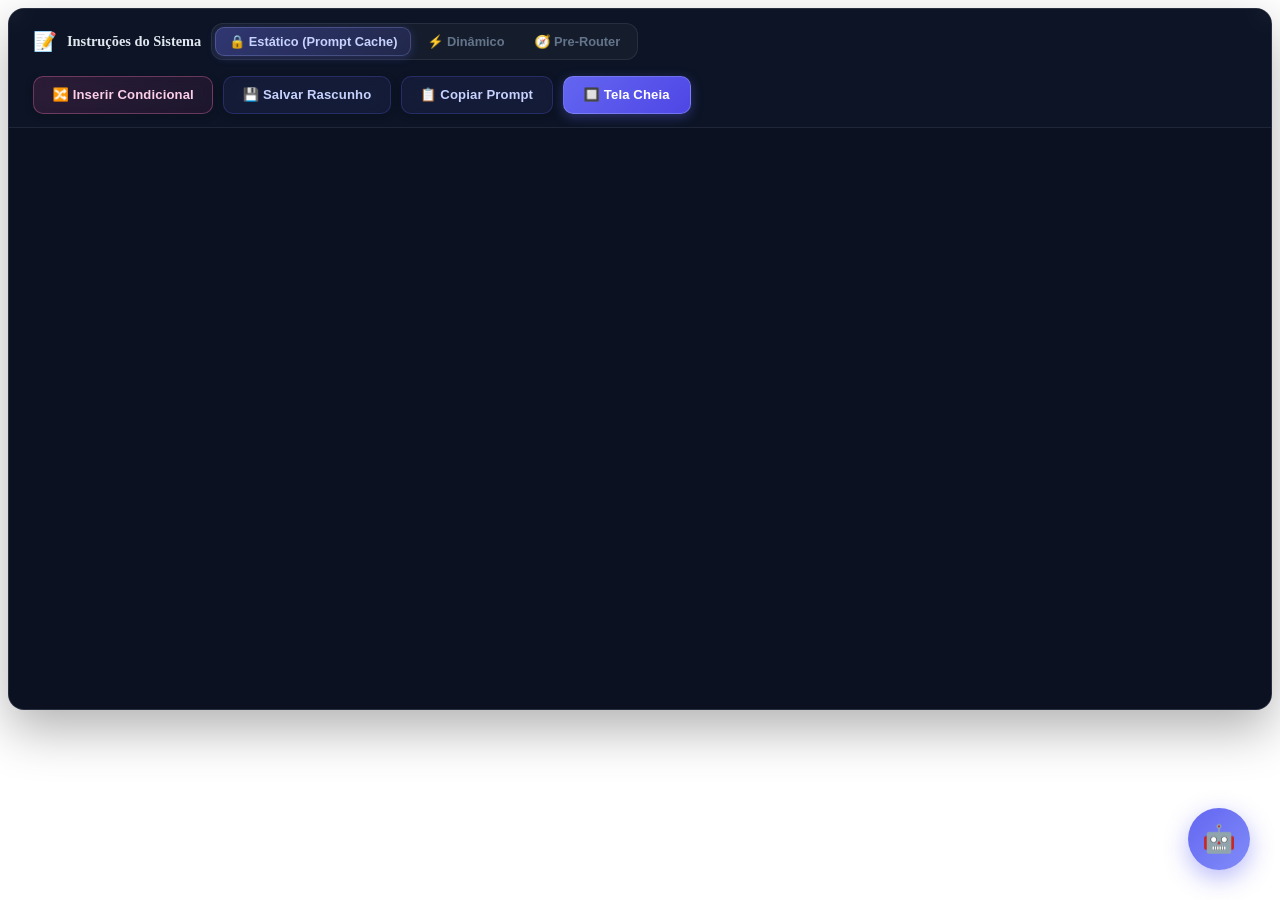
PromptAdvisor - Funcionalidade de Reset de Memória › deve fechar o assistente e manter a bolinha do chat (FAB) visível ao clicar no botão X no modo tela cheia
The image size is (1280, 900).
Note: Abre o Assistente
Click the button titled "Assistente de Prompt" at (1219, 839), box [1188,808,1250,870]
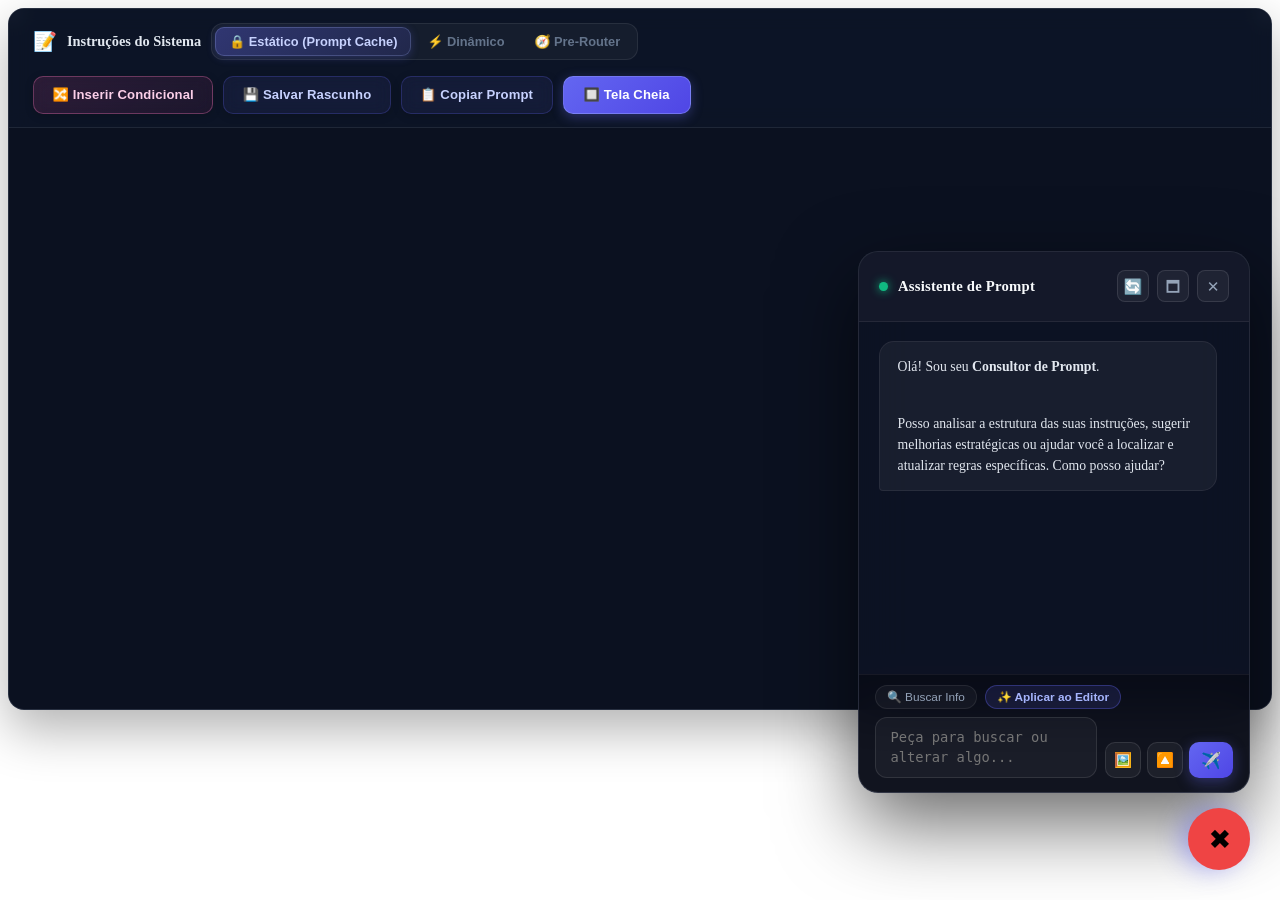
Note: Maximiza para Tela Cheia
Click the button titled "Maximizar Janela (Tela Cheia)" at (1173, 286), box [1157,270,1189,302]
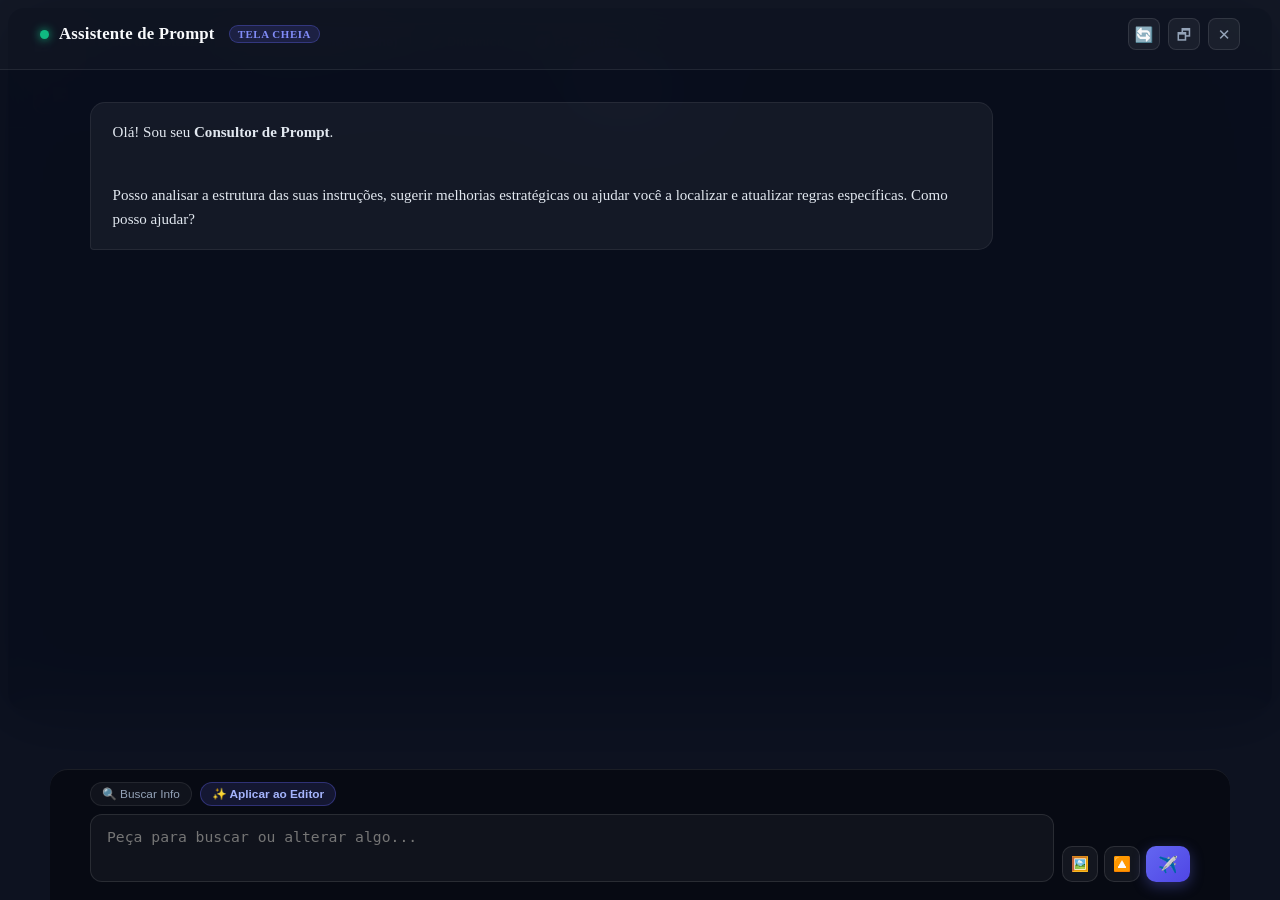
Expected: the text "Tela Cheia" is shown, [229,25,320,43]
Note: Clica no botão de Fechar (✕)
Click the button titled "Fechar Assistente" at (1224, 34), box [1208,18,1240,50]
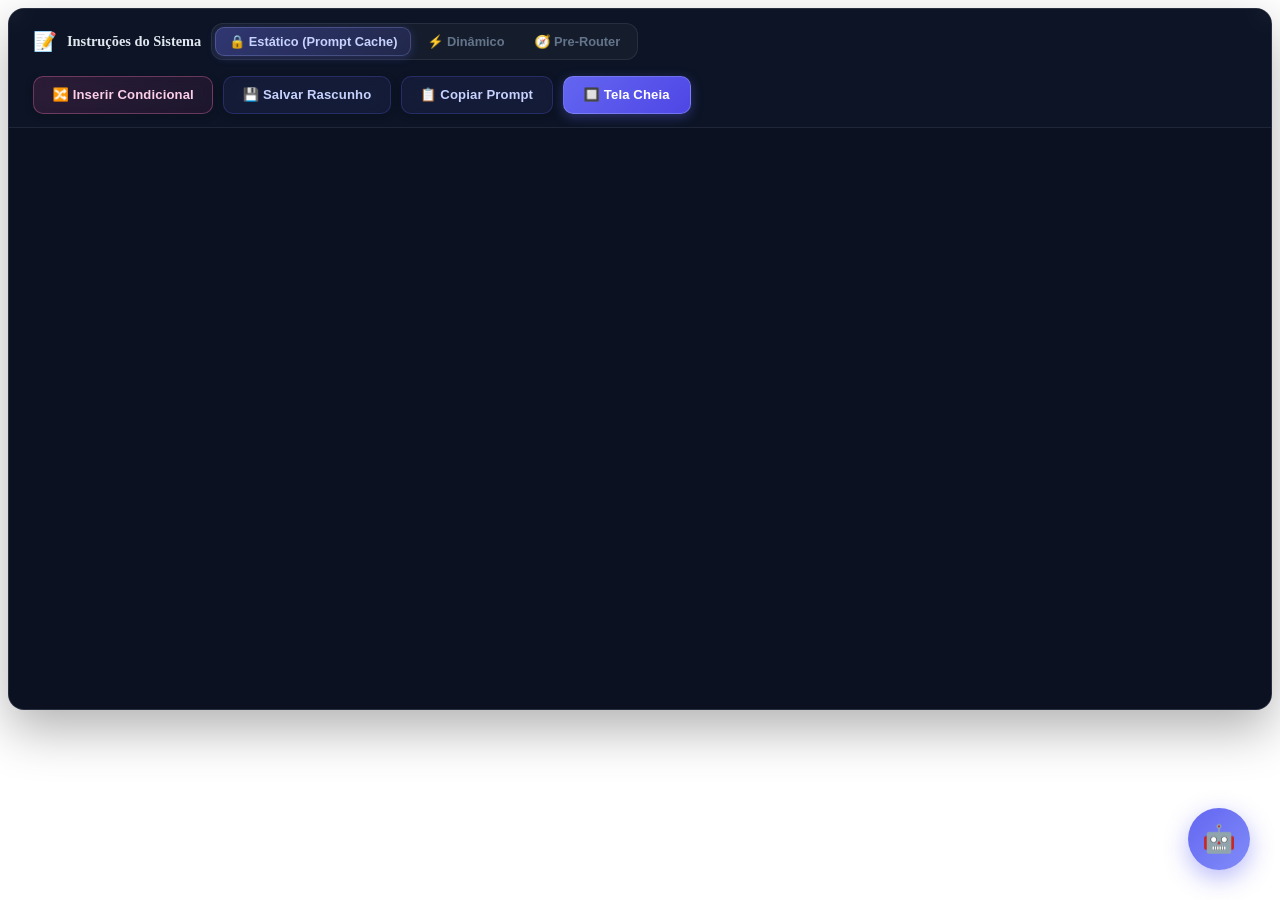
Expected: the text "Assistente de Prompt" is gone
Expected: the button titled "Assistente de Prompt" reads "🤖", [1188,808,1250,870]
